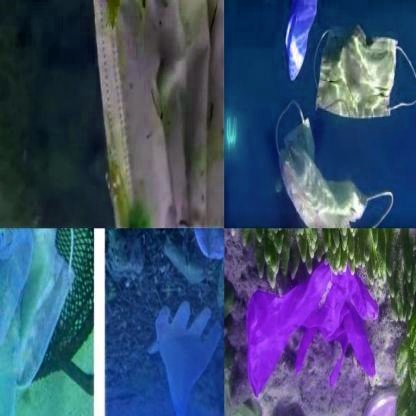Mask: (87, 0, 223, 227), (266, 94, 395, 228), (0, 228, 79, 415), (310, 19, 415, 141)
glove: (245, 271, 375, 395), (145, 278, 224, 415)
